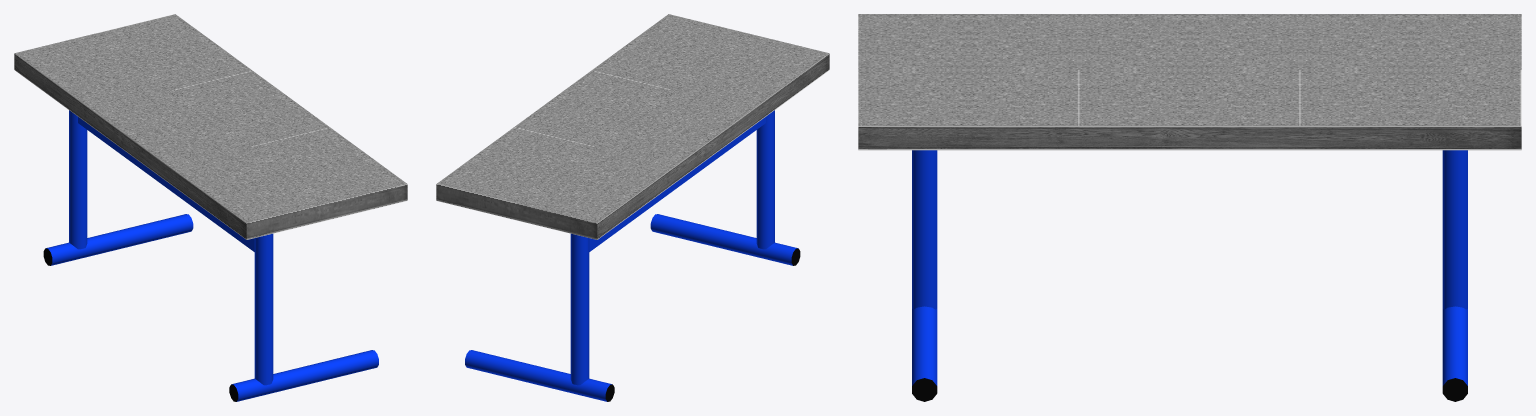
File: table_cours.FBX
The picture shows the model from 3 angles, left to right: view 1: azimuth 30°, elevation 25°; view 2: azimuth 150°, elevation 25°; view 3: azimuth 270°, elevation 25°; orthographic projection. The views are drawn at different scales.
Parts seen in each view (by area): view 1: Box001, Cylinder001, Cylinder004, Cylinder003, Cylinder002, Box002; view 2: Box001, Cylinder002, Cylinder003, Cylinder004, Cylinder001, Box002; view 3: Box001, Cylinder001, Cylinder002, Cylinder003, Cylinder004.
Part boxes in pixels (box(x1,y1,x2,y2)): Box001: box(14, 14, 407, 239); Cylinder001: box(254, 233, 273, 385); Cylinder004: box(43, 214, 193, 265); Cylinder003: box(229, 350, 378, 401); Cylinder002: box(69, 110, 87, 249); Box002: box(78, 117, 254, 251); Box001: box(436, 14, 829, 239); Cylinder002: box(570, 233, 589, 385); Cylinder003: box(650, 214, 800, 265); Cylinder004: box(465, 350, 614, 401); Cylinder001: box(756, 110, 774, 249); Box002: box(589, 117, 765, 251); Box001: box(858, 14, 1521, 150); Cylinder001: box(912, 150, 937, 309); Cylinder002: box(1442, 150, 1467, 309); Cylinder003: box(912, 306, 937, 401); Cylinder004: box(1442, 306, 1467, 401).
Bounding box in the file's own units: 40 × 47 × 100.
Materials: 4 (2 with a texture image).
